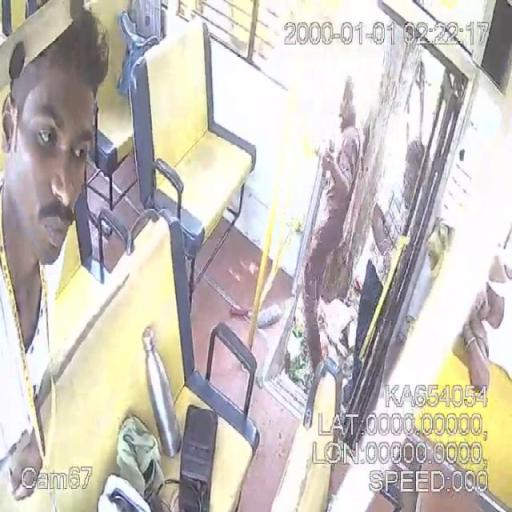persona: (0, 2, 111, 508), (354, 139, 442, 443), (298, 76, 366, 380)
